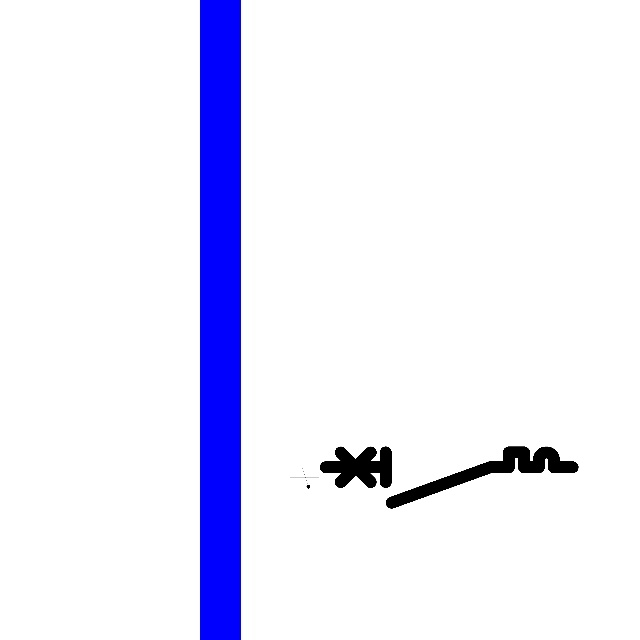interruptor_termomagnetico: (319, 446, 578, 509)
